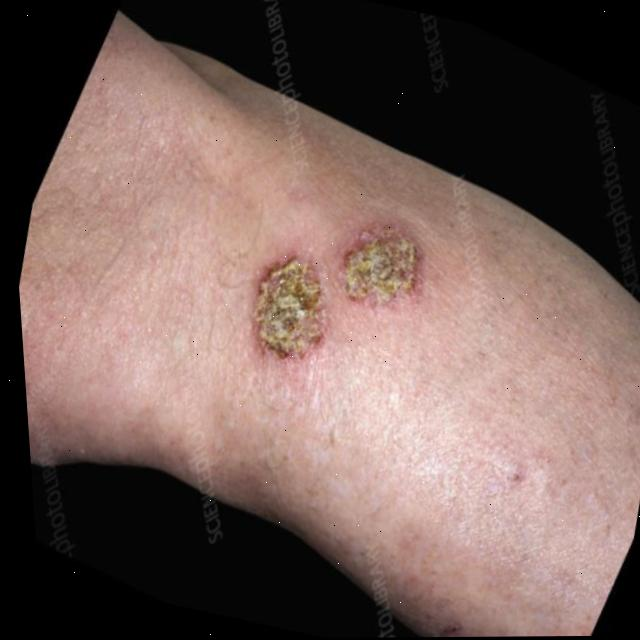Eczema: (228, 238, 344, 366), (329, 220, 428, 312)
